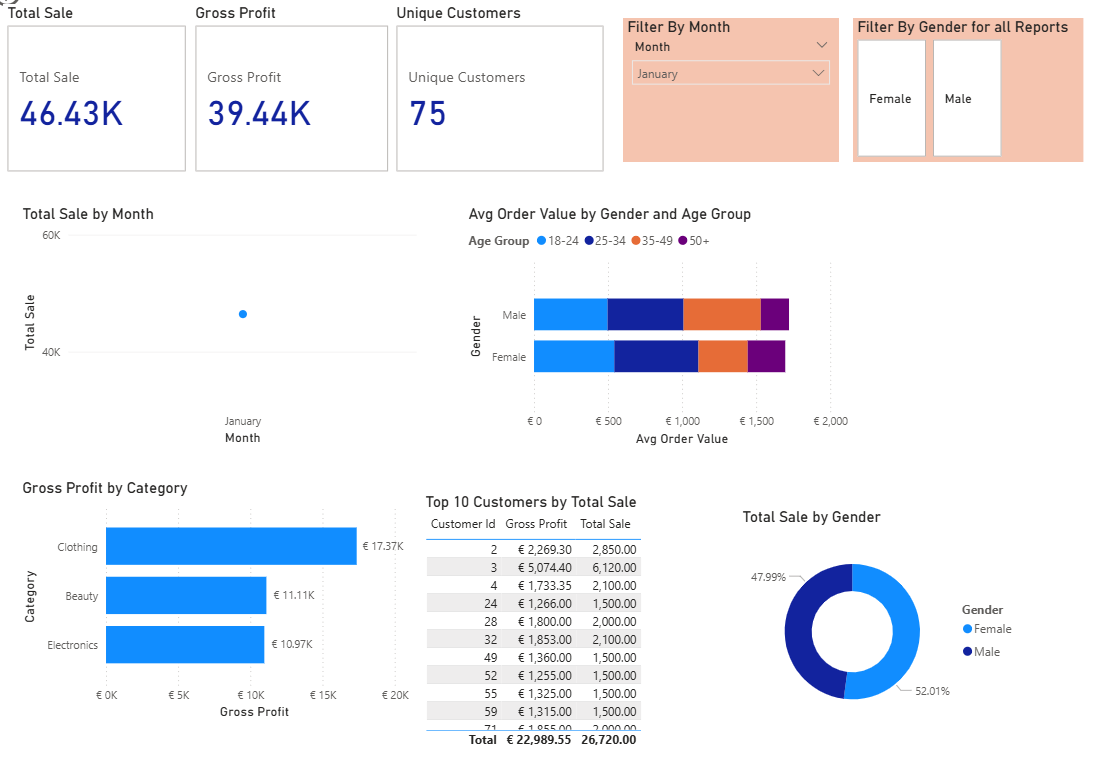

This screenshot's page, from the dashboard's own definition file:
{"tool":"powerbi","page":{"name":"Page 1","canvas":[1600,900],"ordinal":0},"visuals":[{"type":"lineChart","fields":{"Y":["Catergory.Total Sale"],"Category":["Date.Month"]},"box":[32,256,448,272],"z":0},{"type":"actionButton","box":[0,0,100,40],"z":1000},{"type":"barChart","fields":{"Category":["Catergory.Category"],"Y":["Catergory.Gross Profit"]},"box":[48,560,432,272],"z":2000},{"type":"tableEx","fields":{"Values":["Customers.Customer Id","Catergory.Gross Profit","Catergory.Total Sale"]},"box":[480,576,432,288],"z":3000},{"type":"donutChart","fields":{"Category":["Customers.Gender"],"Y":["Catergory.Total Sale"]},"box":[896,592,336,288],"z":4000},{"type":"barChart","fields":{"Category":["Customers.Gender"],"Y":["Catergory.Avg Order Value"],"Series":["Retail Sales Data.Age Group"]},"box":[528,256,432,272],"z":5000},{"type":"cardVisual","title":"Total Revenue","fields":{"Data":["Catergory.Total Sale"]},"box":[16,32,272,192],"z":6000},{"type":"cardVisual","title":"Gross Profit","fields":{"Data":["Catergory.Gross Profit"]},"box":[304,32,272,192],"z":7000},{"type":"cardVisual","title":"Unique Customers","fields":{"Data":["Catergory.Unique Customer"]},"box":[592,32,272,192],"z":8000},{"type":"advancedSlicerVisual","title":"Filter By Gender for all Reports","fields":{"Values":["Customers.Gender"]},"box":[1247.8,64.4,352,160],"z":9000},{"type":"slicer","title":"Filter By Month","fields":{"Values":["Date.Month"]},"box":[879.8,64.4,336,160],"z":10000}]}

Visuals, with their boxes on the page's 1600x900 design canvas (x1, y1, x2, y2). These are canvas units, not pixel positions in the 1095x764 screenshot, which may show the page scaled, cropped or inside an application window:
lineChart - Catergory.Total Sale x Date.Month: BBox(32, 256, 480, 528)
actionButton: BBox(0, 0, 100, 40)
barChart - Catergory.Category x Catergory.Gross Profit: BBox(48, 560, 480, 832)
tableEx - Customers.Customer Id x Catergory.Gross Profit: BBox(480, 576, 912, 864)
donutChart - Customers.Gender x Catergory.Total Sale: BBox(896, 592, 1232, 880)
barChart - Customers.Gender x Catergory.Avg Order Value: BBox(528, 256, 960, 528)
"Total Revenue" cardVisual: BBox(16, 32, 288, 224)
"Gross Profit" cardVisual: BBox(304, 32, 576, 224)
"Unique Customers" cardVisual: BBox(592, 32, 864, 224)
"Filter By Gender for all Reports" advancedSlicerVisual: BBox(1248, 64, 1600, 224)
"Filter By Month" slicer: BBox(880, 64, 1216, 224)
